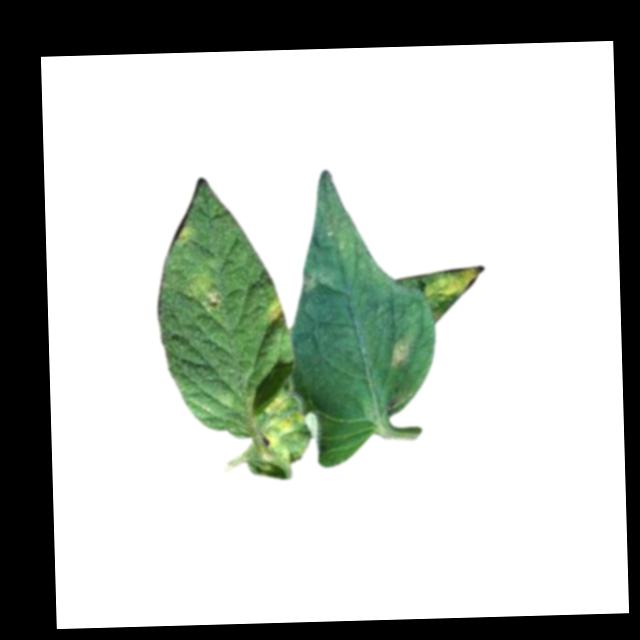Leaf_Mold: (252, 385, 306, 475), (422, 264, 484, 320), (260, 297, 291, 333), (385, 331, 410, 364), (173, 222, 199, 250)
